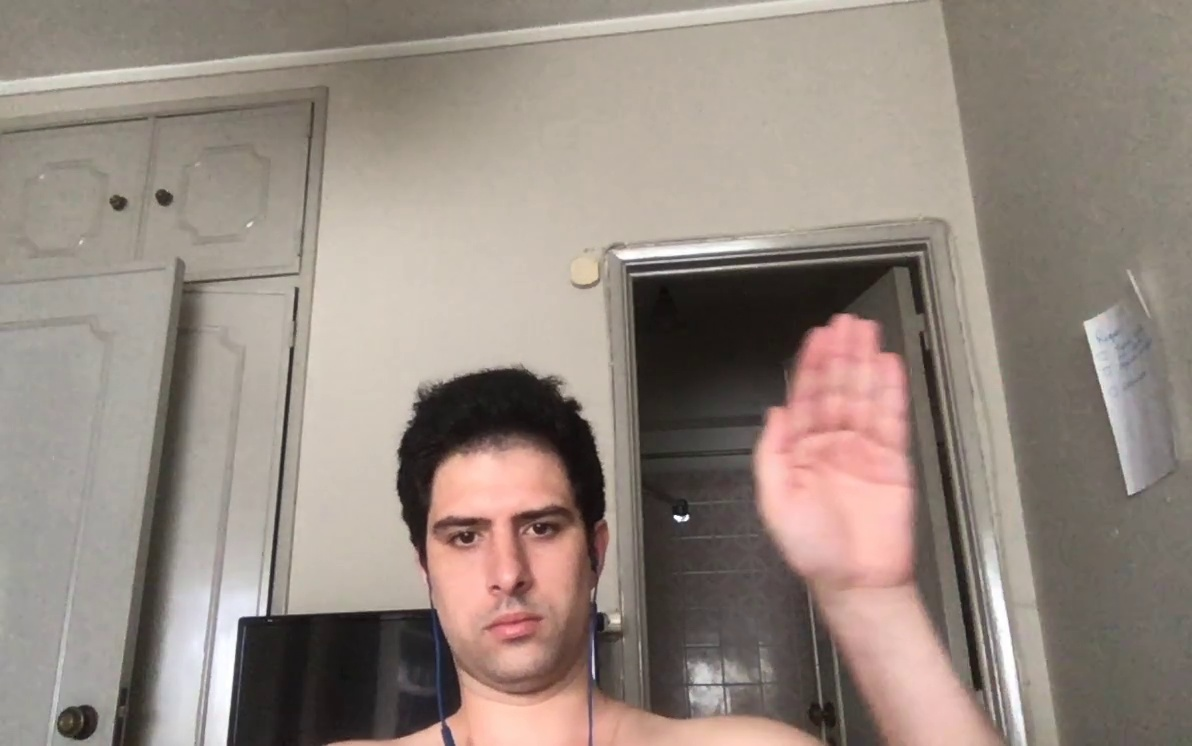b: (750, 307, 931, 590)
